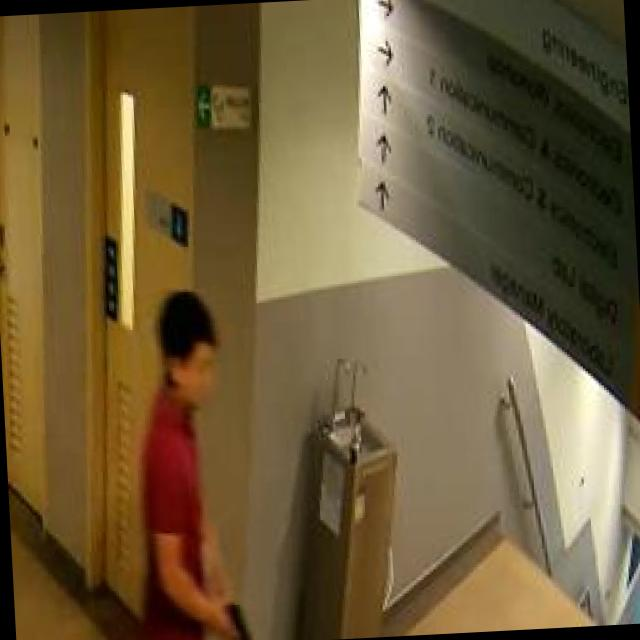Guns: (207, 585, 282, 640)
